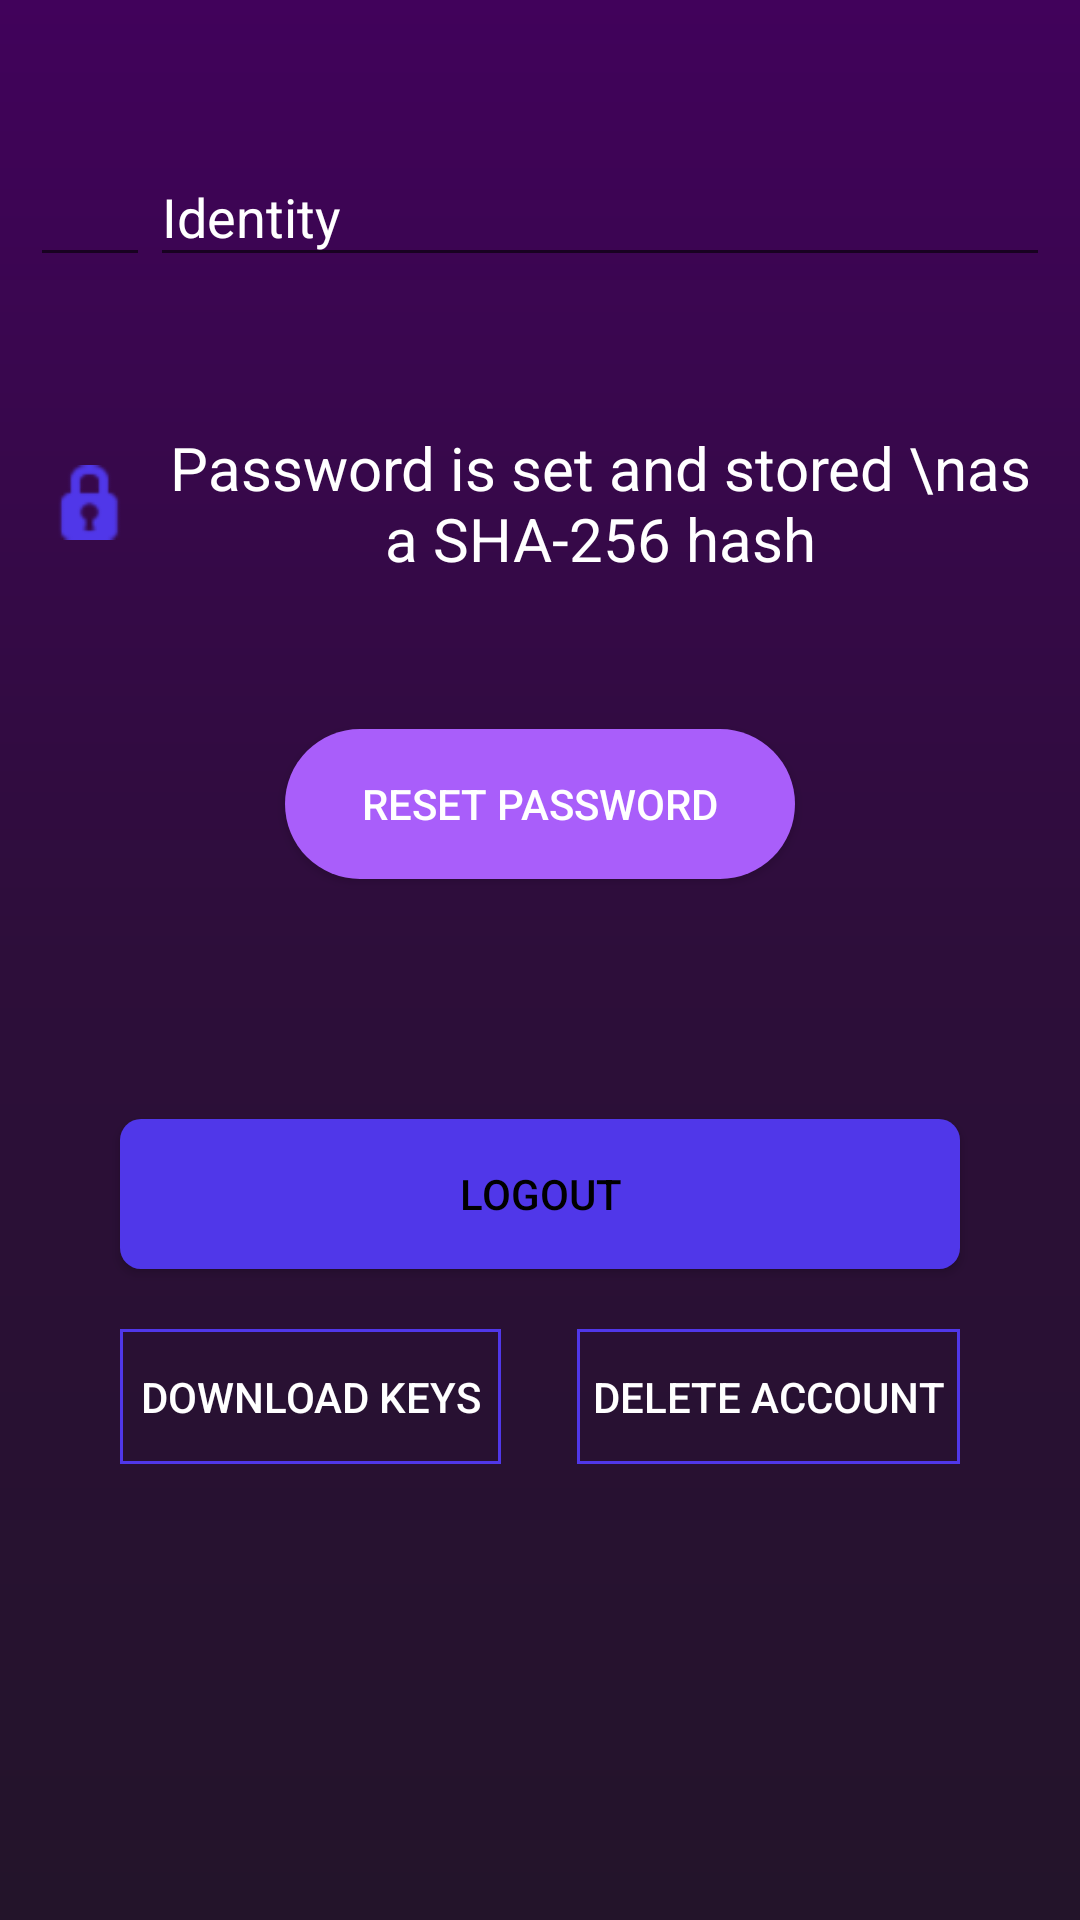

Icon bounding boxes for this 1080×1920 phone screenshot, format (x1, y1, x2, y2):
secure: (60, 465, 119, 540)
